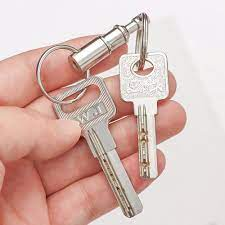key: (52, 75, 144, 218), (119, 52, 169, 180)
